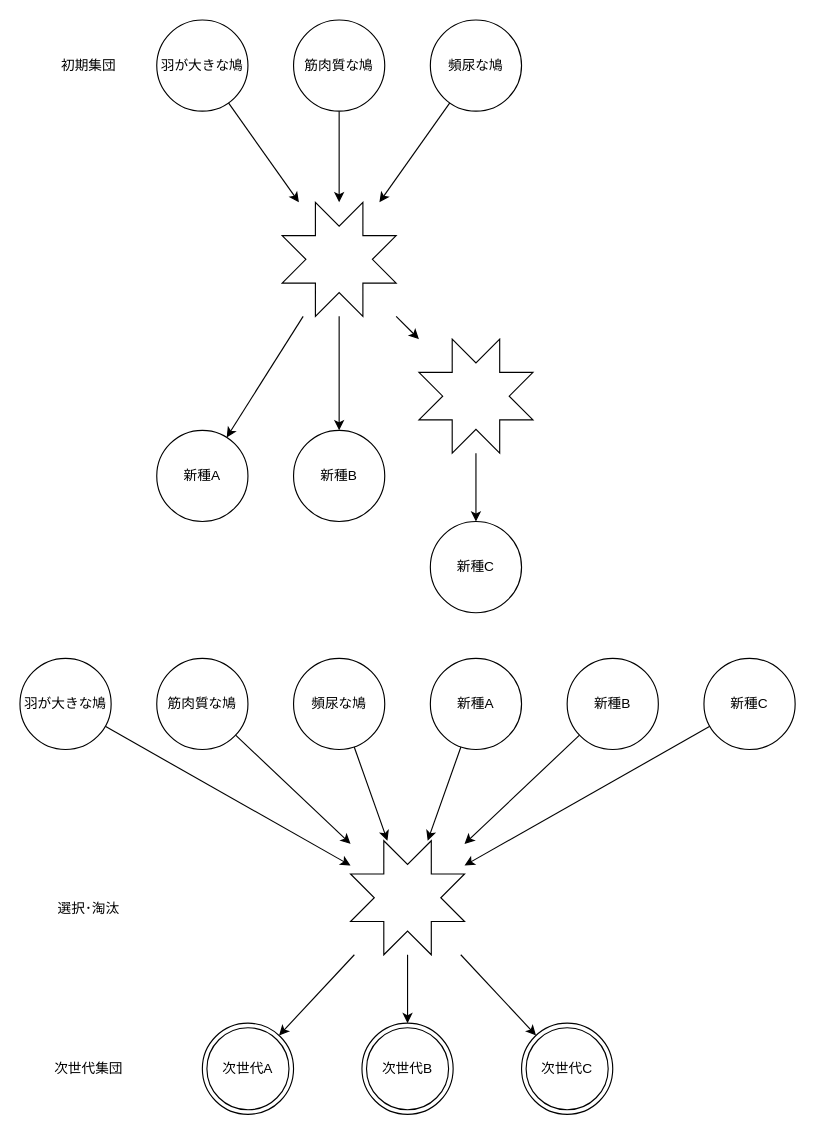
Some shapes in this 815 by 1134 pixel diagram are drawn without their labels. Here are the shapes that lost their labels. From the top down, the centre of each, then its label:
[338,258]: 交叉
[475,395]: 突然変異
[407,897]: 適合度計算
